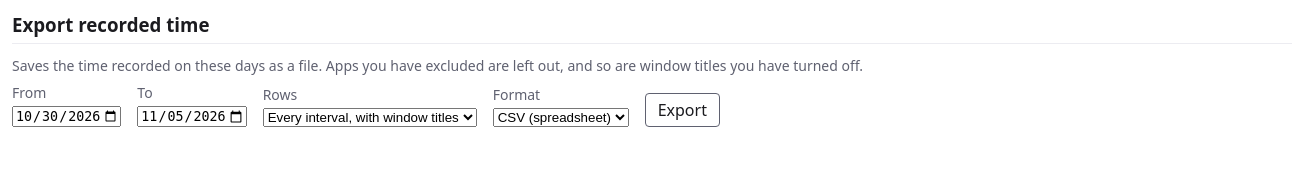
Test: ExportData › asks for both days when one is missing
The width and height of the screenshot is (1292, 172).
Step 1. Type "2026-11-04" into the date field labelled "From" → (67, 117), box [12,106,121,127]
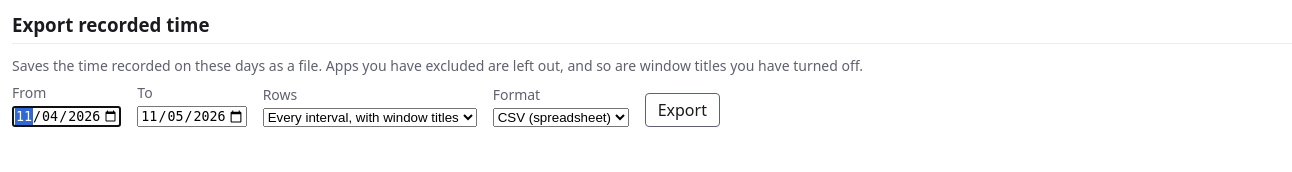
Step 2. Clear the date field labelled "To" → (192, 117), box [137,106,247,127]
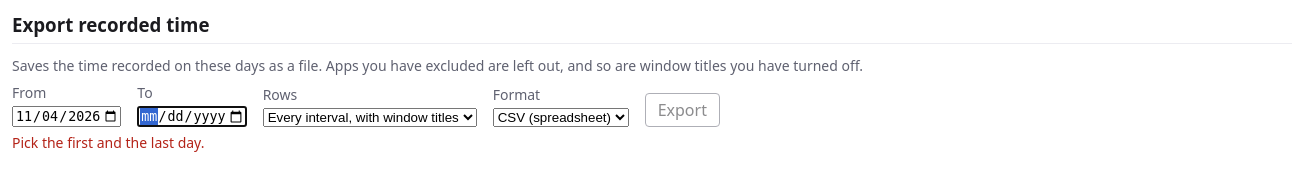
Expected: the button "Export" is disabled, [645,93,720,127]
Expected: the message reads "Pick the first and the last day.", [12,133,204,152]
